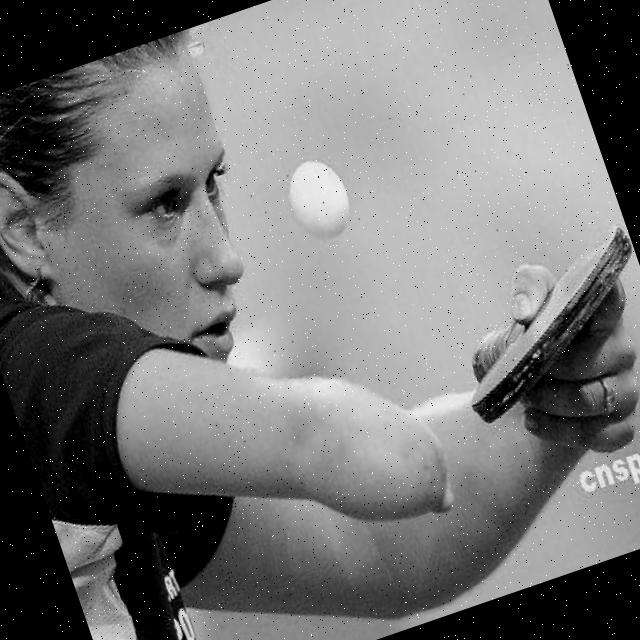ping-pong-ball: (271, 144, 361, 252)
